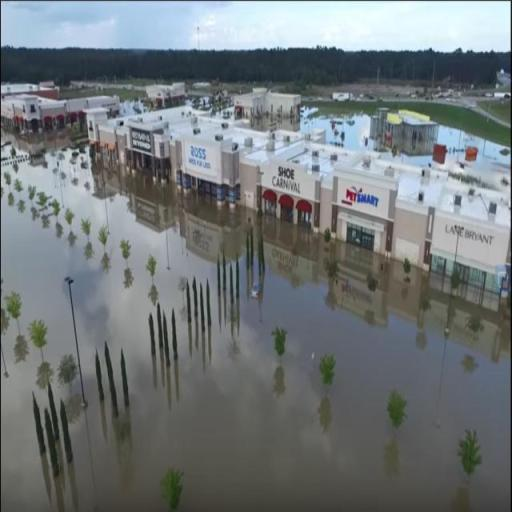flood: (0, 129, 511, 512), (302, 108, 374, 152), (442, 126, 510, 168), (393, 155, 432, 168)
house: (425, 182, 512, 267), (330, 157, 398, 253), (178, 132, 242, 206), (262, 164, 320, 233), (124, 115, 176, 183), (234, 86, 304, 130), (373, 108, 434, 152), (88, 106, 117, 156), (5, 97, 34, 139), (144, 84, 186, 104)
